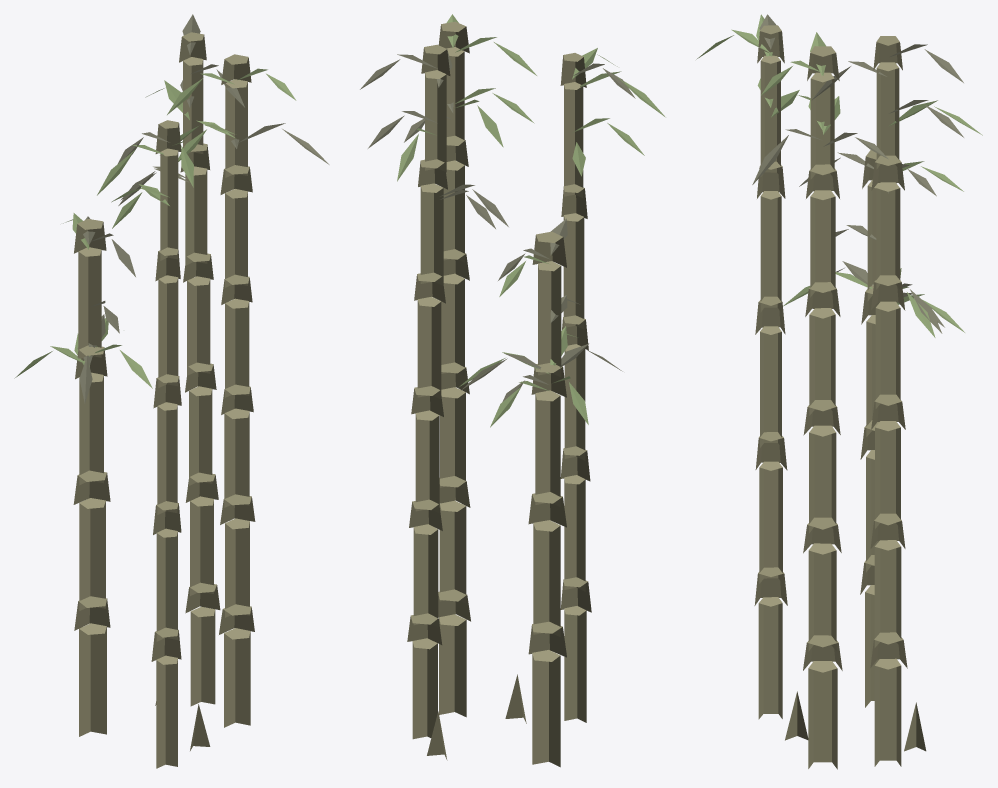
File: hua.zhu@subadult__winter.glb
3 views of the same model, side by side, from view 1: azimuth 30°, elevation 25°; view 2: azimuth 150°, elevation 25°; view 3: azimuth 270°, elevation 25° (orthographic). The views are drawn at different scales.
Parts seen in each view (by area): view 1: hua.zhu@subadult__winter; view 2: hua.zhu@subadult__winter; view 3: hua.zhu@subadult__winter.
Boxes of the visible parts, x1,y1,x2,y2 form: hua.zhu@subadult__winter: [14, 14, 329, 768]; hua.zhu@subadult__winter: [360, 14, 665, 767]; hua.zhu@subadult__winter: [696, 14, 982, 769].
Size of the model in its own units: 1.11 by 3.02 by 1.09.
